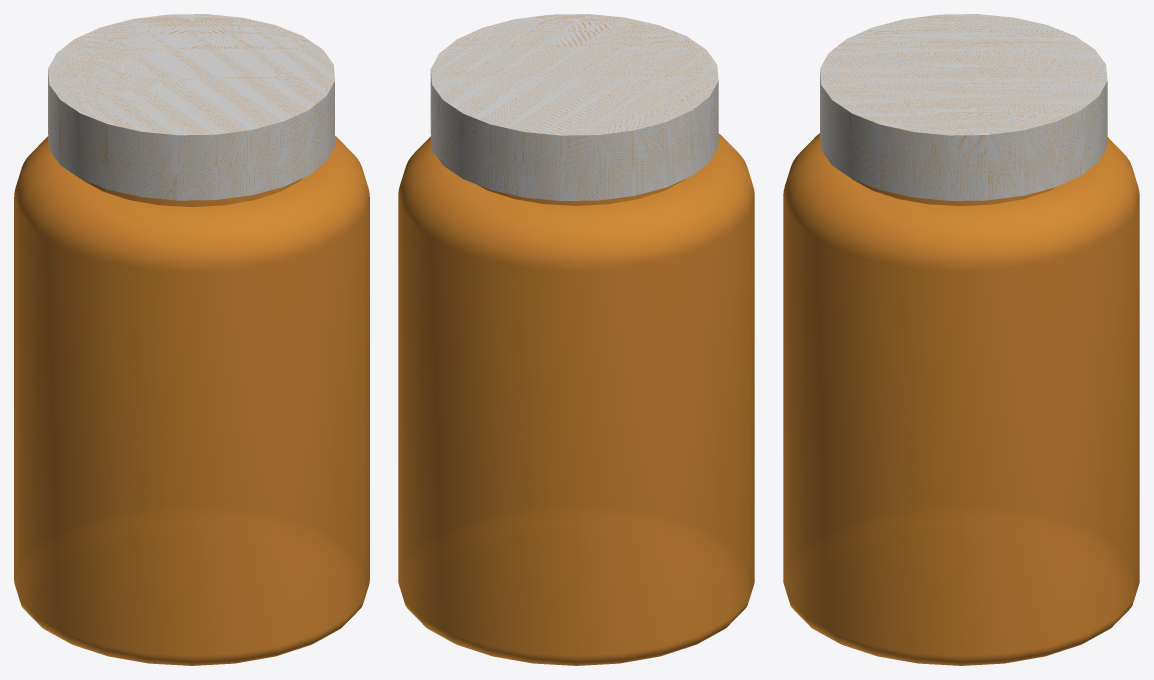
The model's file is pill-bottle.dae.
3 views of the same model, side by side, from view 1: azimuth 30°, elevation 25°; view 2: azimuth 150°, elevation 25°; view 3: azimuth 270°, elevation 25° (orthographic).
Parts seen in each view (by area): view 1: SketchUp, group_0; view 2: SketchUp, group_0; view 3: SketchUp, group_0.
Boxes of the visible parts, x1,y1,x2,y2 form: SketchUp: (14,136,369,665); group_0: (48,14,334,200); SketchUp: (398,133,754,665); group_0: (430,14,718,200); SketchUp: (783,133,1139,665); group_0: (820,14,1107,200).
Size of the model in its own units: 15.77 by 15.77 by 25.56.
